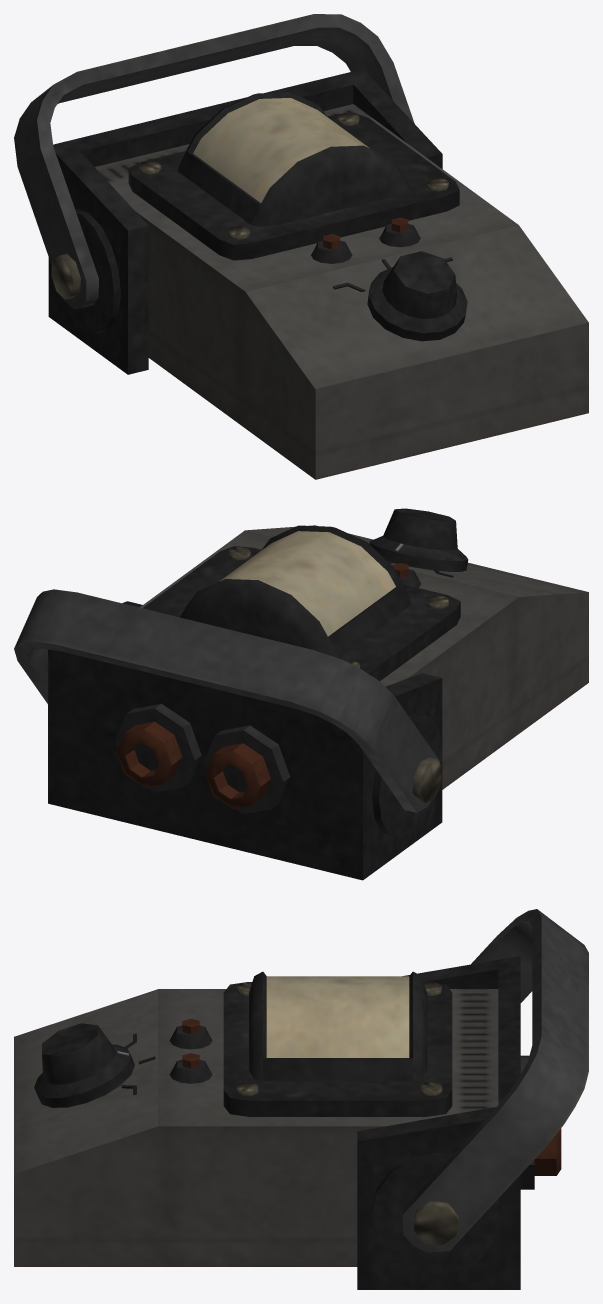
File: signal_receiver_etx_2.obj
The picture shows the model from 3 angles, top to bottom: view 1: azimuth 30°, elevation 25°; view 2: azimuth 150°, elevation 25°; view 3: azimuth 270°, elevation 25°; orthographic projection. The views are drawn at different scales.
Parts seen in each view (by area): view 1: signal_receiver_etx_2, signal_receiver_etx_2_handle_child_4, signal_receiver_etx_2_knob_child; view 2: signal_receiver_etx_2, signal_receiver_etx_2_handle_child_4, signal_receiver_etx_2_knob_child; view 3: signal_receiver_etx_2, signal_receiver_etx_2_handle_child_4, signal_receiver_etx_2_knob_child.
Boxes of the visible parts, <box> form: signal_receiver_etx_2: <box>48,69,588,479</box>; signal_receiver_etx_2_handle_child_4: <box>14,14,414,309</box>; signal_receiver_etx_2_knob_child: <box>367,251,467,341</box>; signal_receiver_etx_2: <box>48,525,588,880</box>; signal_receiver_etx_2_handle_child_4: <box>14,589,439,812</box>; signal_receiver_etx_2_knob_child: <box>369,508,468,571</box>; signal_receiver_etx_2: <box>14,956,561,1289</box>; signal_receiver_etx_2_handle_child_4: <box>402,909,588,1252</box>; signal_receiver_etx_2_knob_child: <box>34,1023,134,1107</box>.
Bounding box in the file's own units: 0.2499 × 0.1478 × 0.3284.
